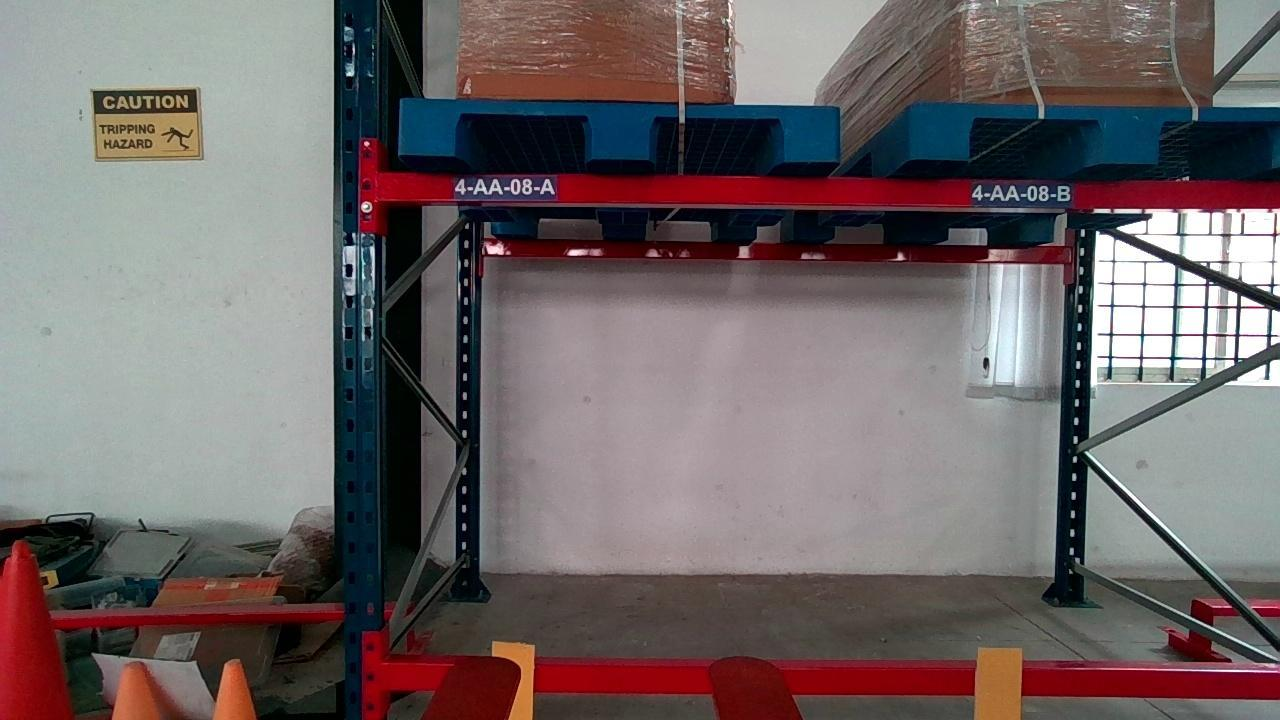h_rack: (381, 662, 1279, 699), (380, 171, 1279, 207)
orange_strip: (488, 644, 532, 720), (973, 647, 1020, 715)
small_pallet: (400, 99, 837, 161), (913, 103, 1279, 172)
